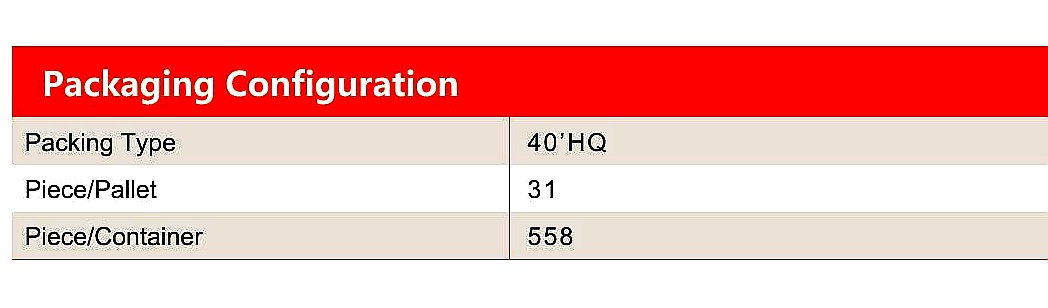table: (3, 36, 1048, 270)
table column: (510, 47, 1047, 260), (11, 44, 511, 260)
table name: (15, 47, 1044, 116)
table row: (12, 50, 1042, 115), (11, 119, 1045, 166), (11, 168, 1043, 213), (10, 216, 1043, 259)
table row header: (10, 47, 510, 257)
table spanning cell: (13, 49, 1044, 119)
